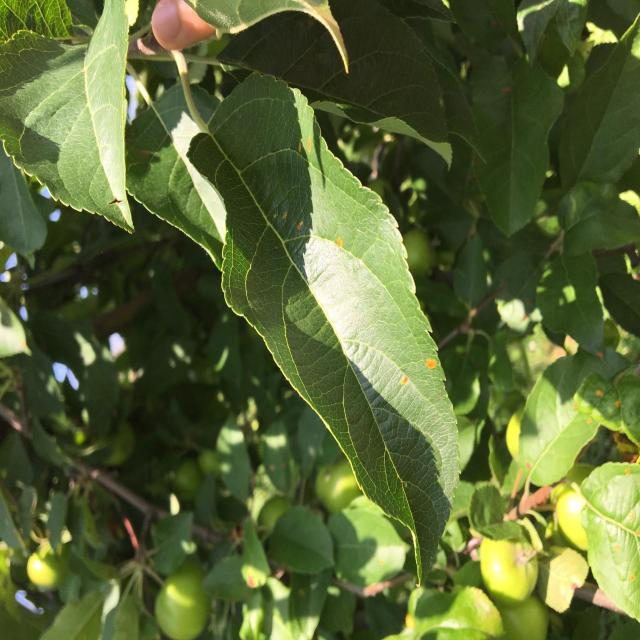Rust: (414, 347, 440, 376), (397, 366, 412, 395), (292, 136, 306, 161), (330, 232, 345, 255), (280, 200, 291, 230), (305, 129, 314, 162), (295, 214, 304, 240)
